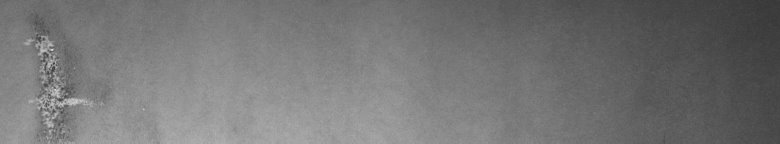hc: (23, 14, 106, 136)
